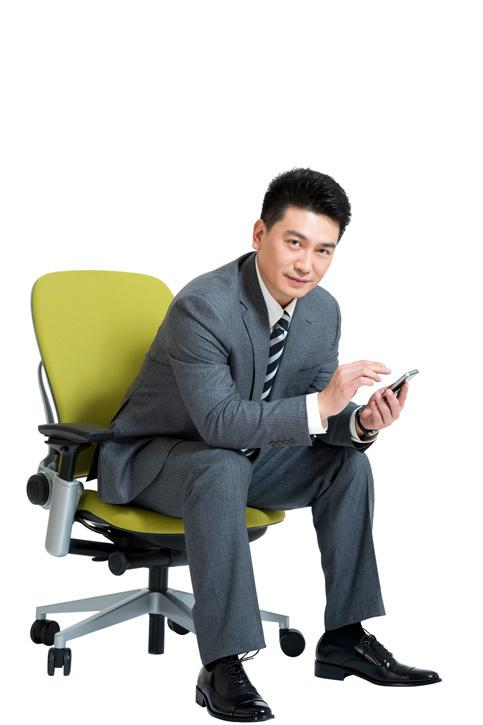reading: (318, 354, 424, 431)
